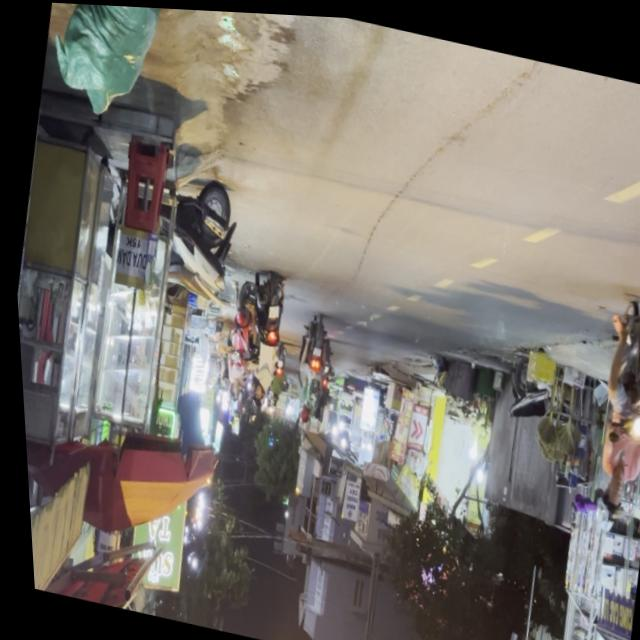licenseplate: (572, 278, 640, 522)
motorcyclist: (594, 466, 624, 512)
